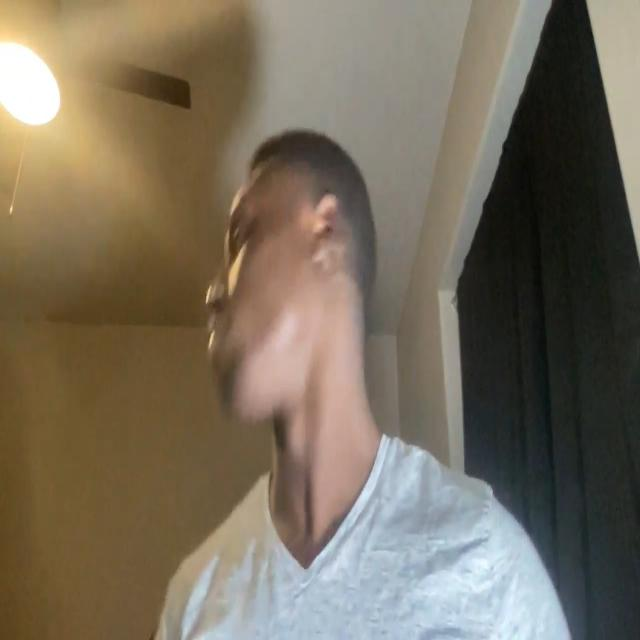face: (206, 131, 376, 421)
